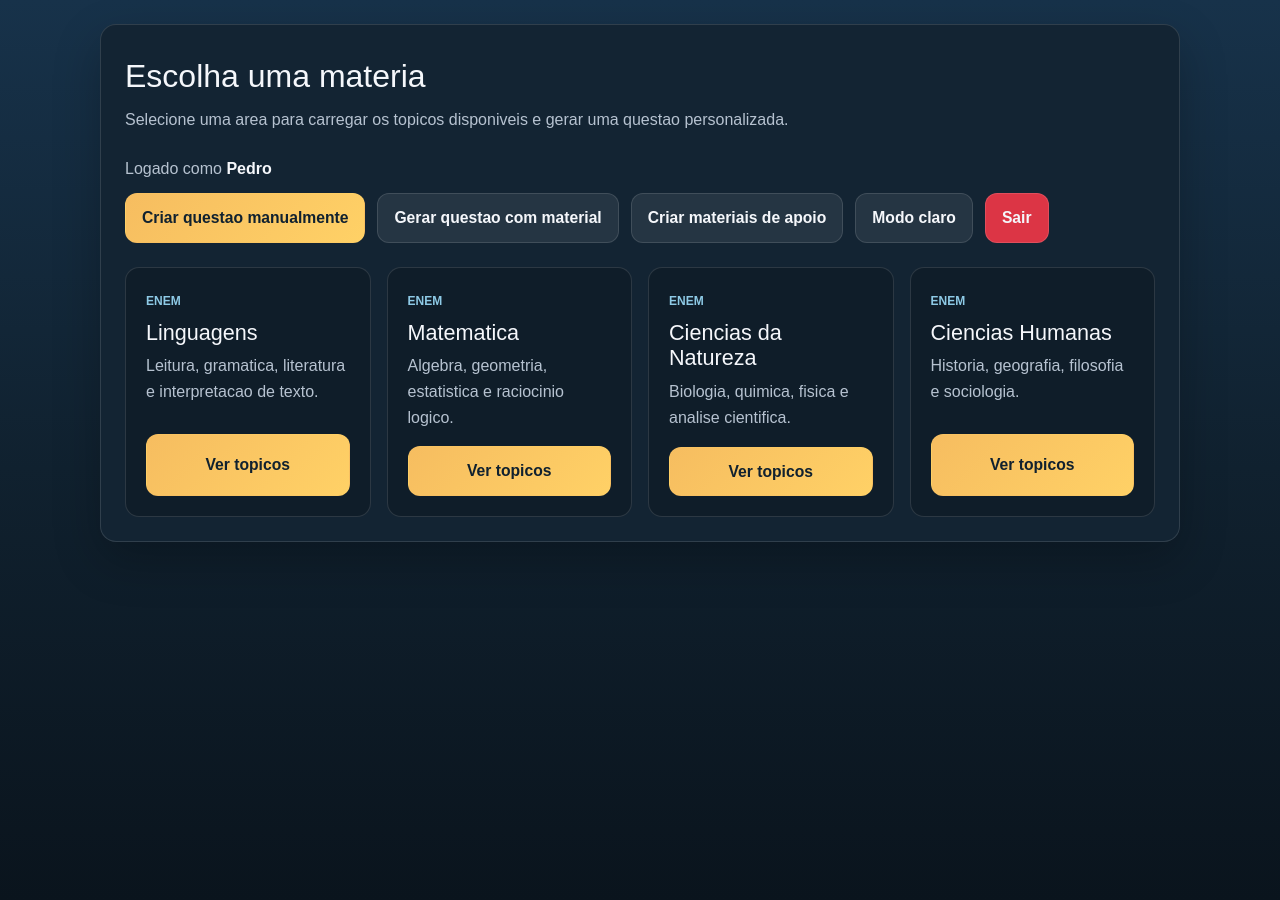
navigates from subjects home to support materials creation
Click the button "Criar materiais de apoio": x=737, y=218 [631, 193, 843, 242]
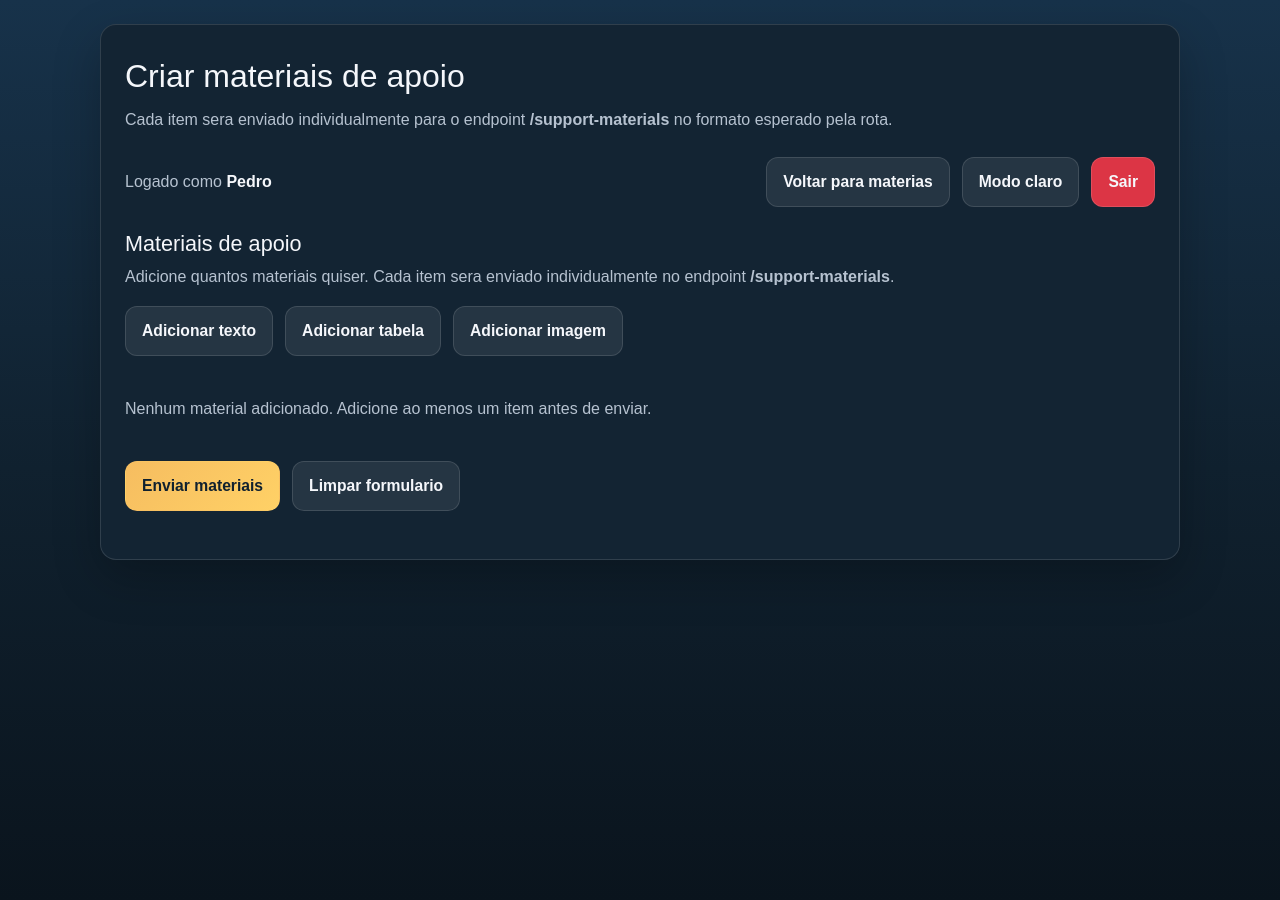
Result: the heading "Criar materiais de apoio" is shown at [125, 58, 465, 94]
